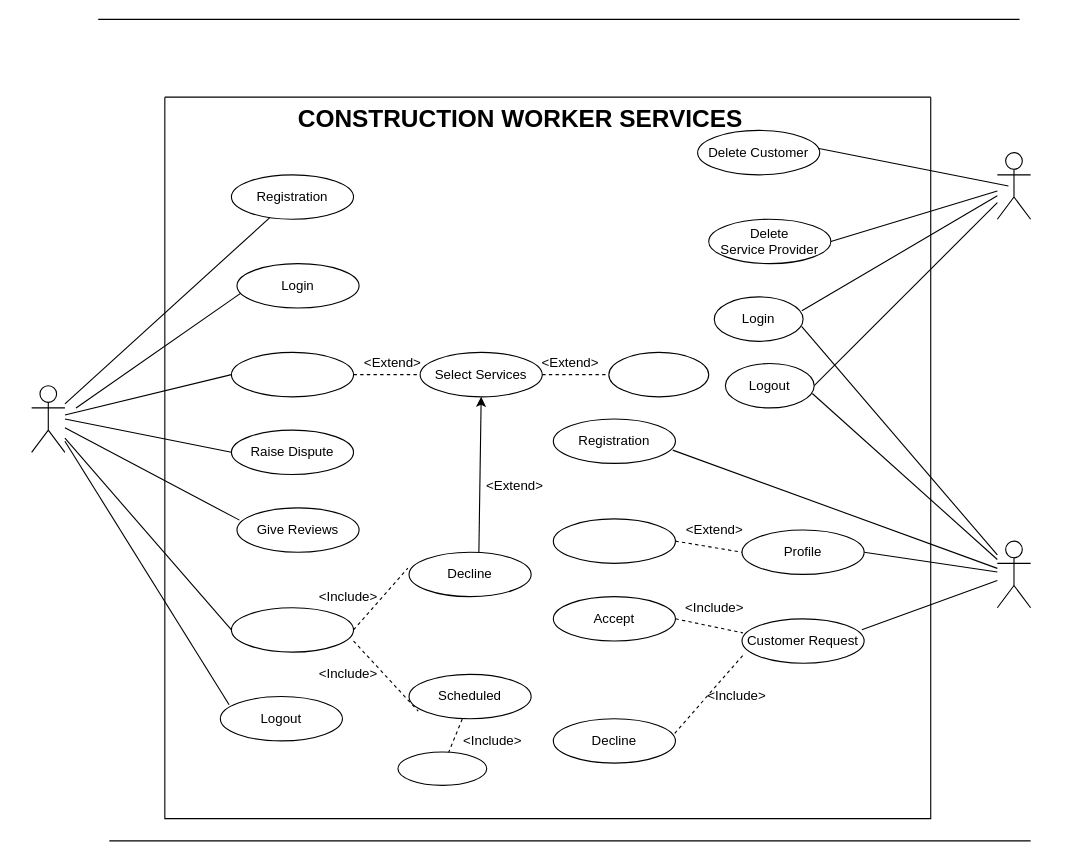
The diagram is 1081 pixels wide and 861 high, and some of its shapes have lost their labels. The shapes that lost their labels are listed below. From the top down, each one's box as (x1, y1, x2, y2) in pixels, then its label:
(996, 152, 1031, 219): Admin
(230, 351, 354, 397): Access Services
(608, 351, 709, 397): Schdule Services
(31, 385, 65, 452): Customer
(552, 518, 675, 563): Edit
(996, 540, 1031, 608): Service Provider
(230, 607, 354, 652): Service Provider Response
(397, 751, 487, 785): Invoice
